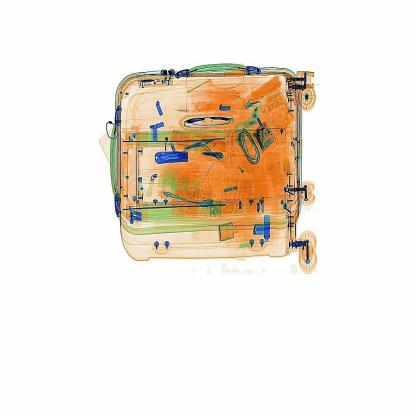knife: (153, 142, 191, 172)
